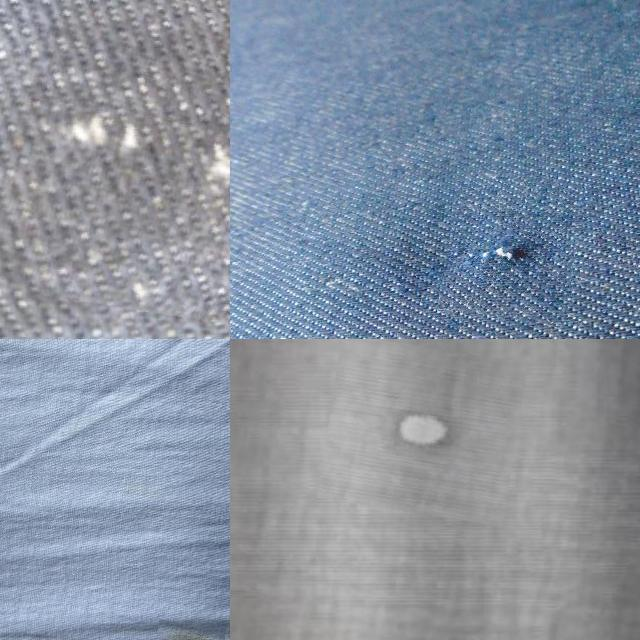Thread_other: (154, 621, 224, 640)
other: (324, 339, 522, 519)
stains: (443, 168, 581, 321)
